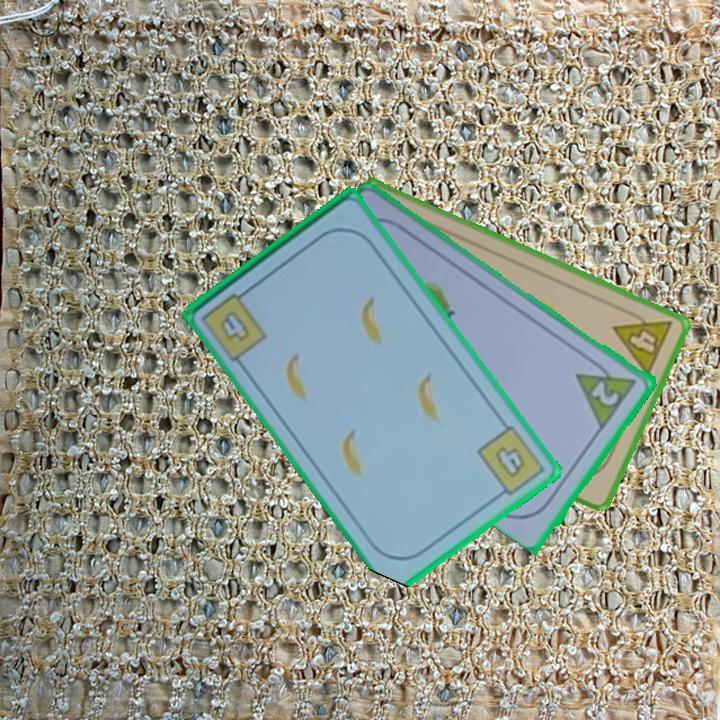2p: (573, 353, 641, 430)
4b: (473, 421, 549, 502), (216, 306, 254, 345)
4p: (609, 303, 676, 380)
